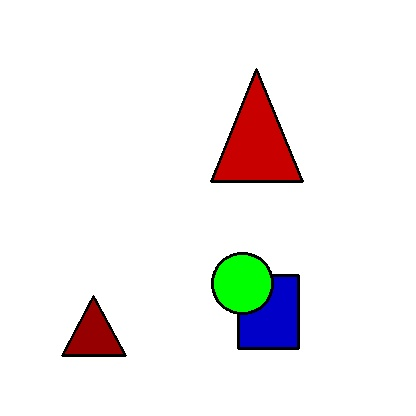circle: (212, 229, 273, 337)
rectangle: (238, 275, 298, 348)
triangle: (211, 69, 302, 181), (62, 296, 125, 355)
